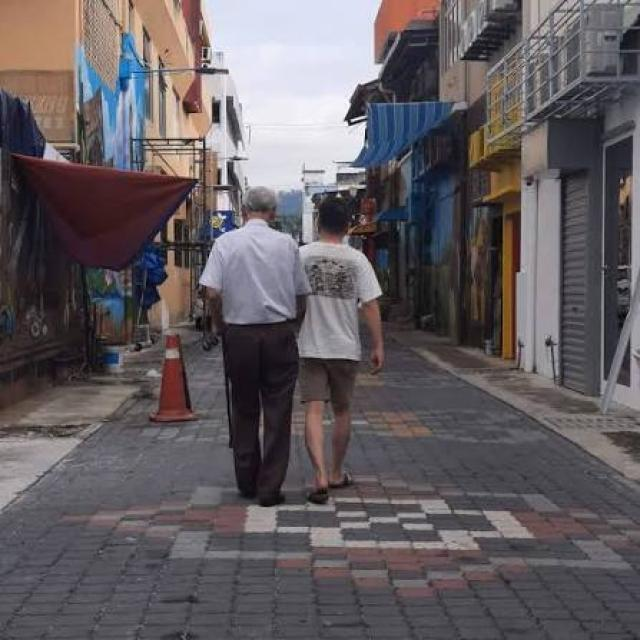Person: (195, 179, 304, 512), (300, 189, 388, 506)
